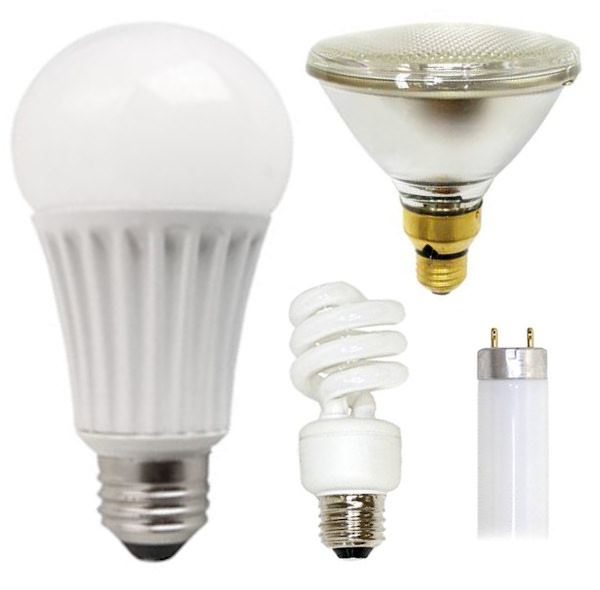Nonrec_Glass: (10, 14, 293, 566), (297, 13, 589, 301), (288, 262, 404, 568), (449, 295, 564, 568)
